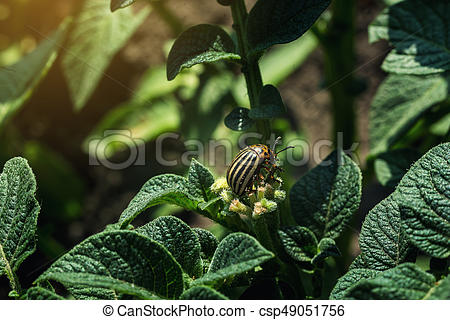hrosc: (224, 130, 288, 210)
